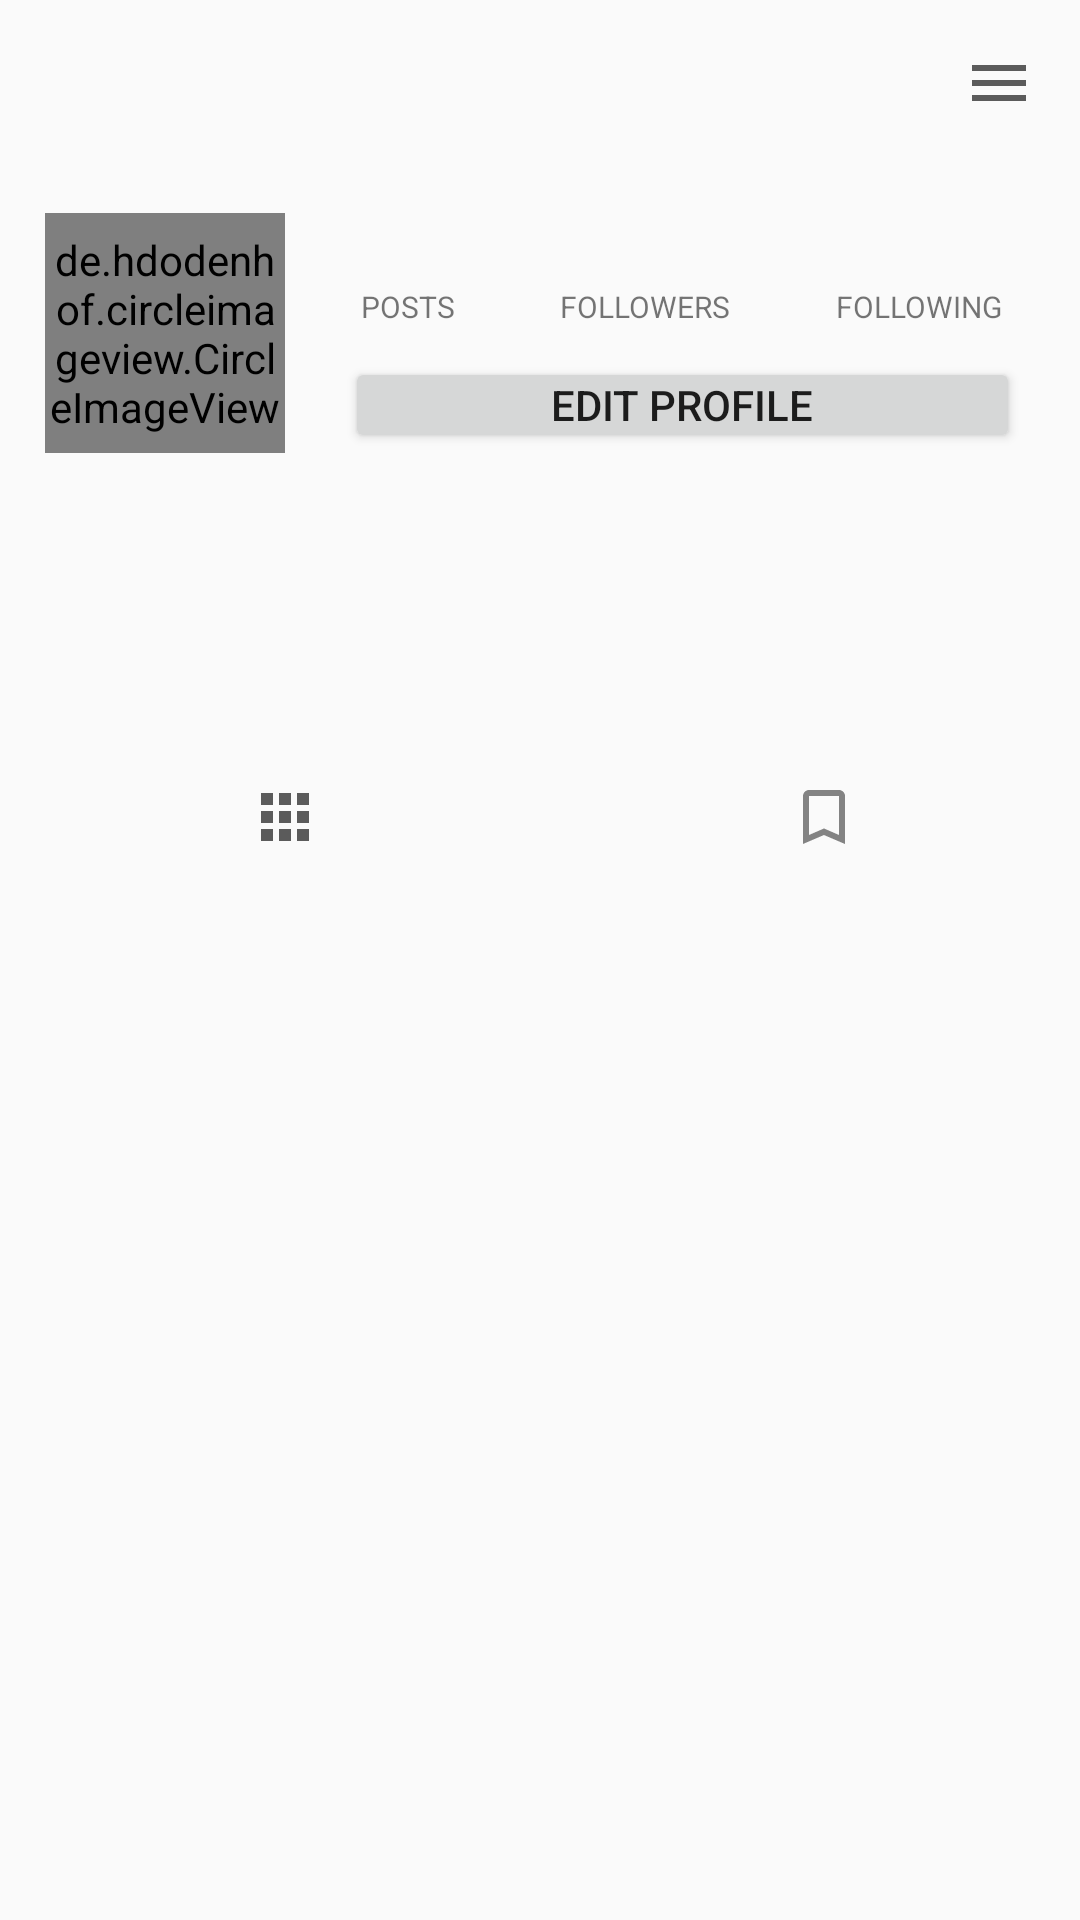

Icon click points for this 1080px×1920px phone screenshot, format (x,y):
options: (999,83)
save: (824,817)
